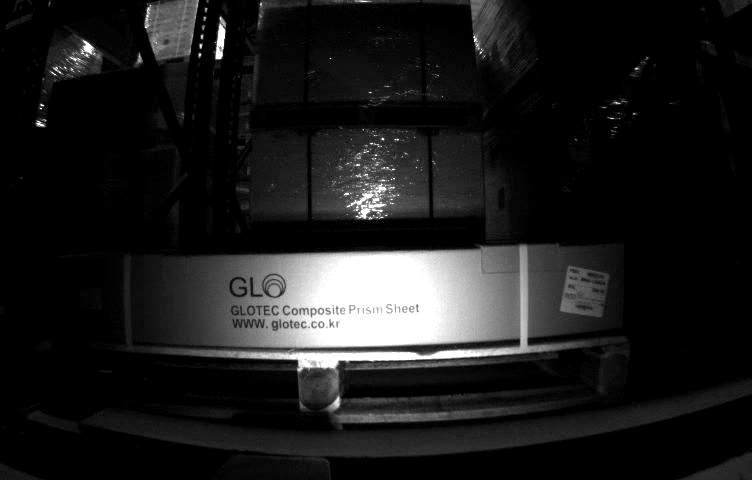True Barcode: (555, 264, 607, 319)
